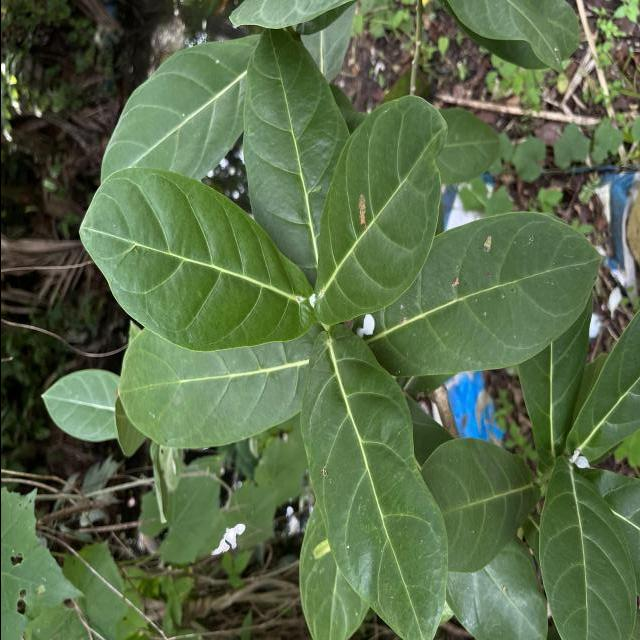Calotropis gigantea: (298, 324, 447, 640), (74, 165, 316, 354), (372, 210, 609, 376), (308, 94, 448, 328), (240, 26, 350, 280), (98, 32, 259, 190), (116, 328, 305, 450), (536, 454, 636, 640), (418, 436, 540, 575), (38, 368, 116, 443)
